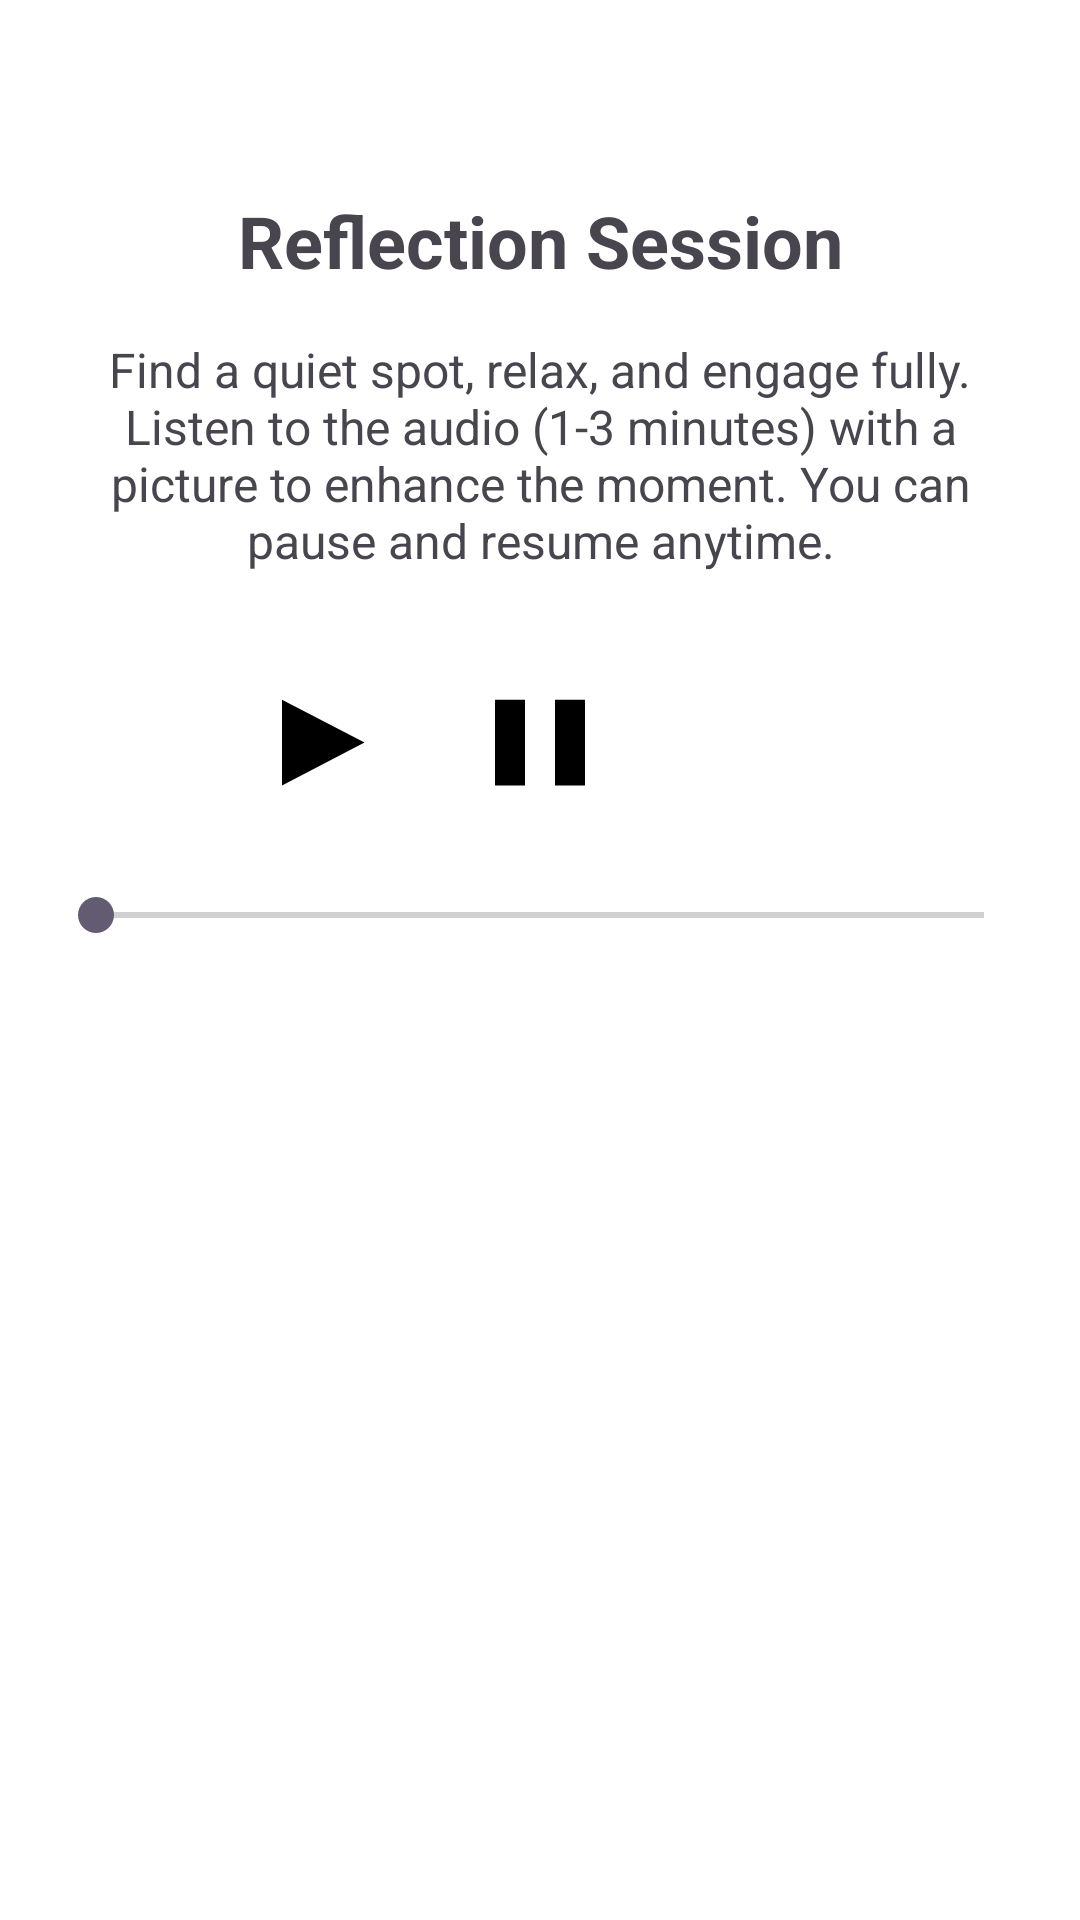

Screen size 1080 x 1920. Icon name, then its box in pixels as [x1=x1, y1=y1, x2=x2, y2=y2]:
play: [x1=282, y1=700, x2=365, y2=786]
